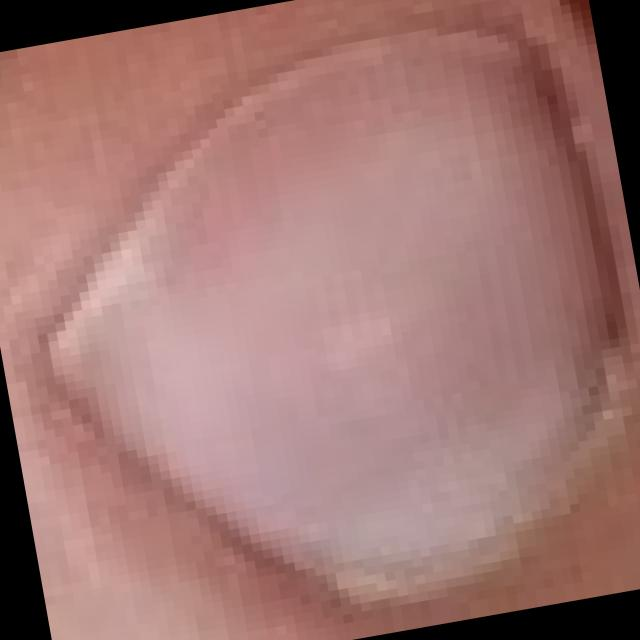Nail: (43, 23, 614, 600)
